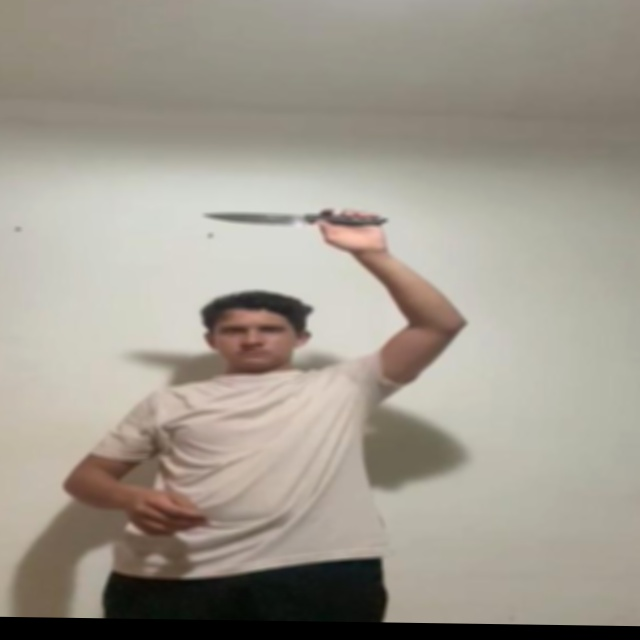Sharp-Object: (196, 210, 314, 228)
